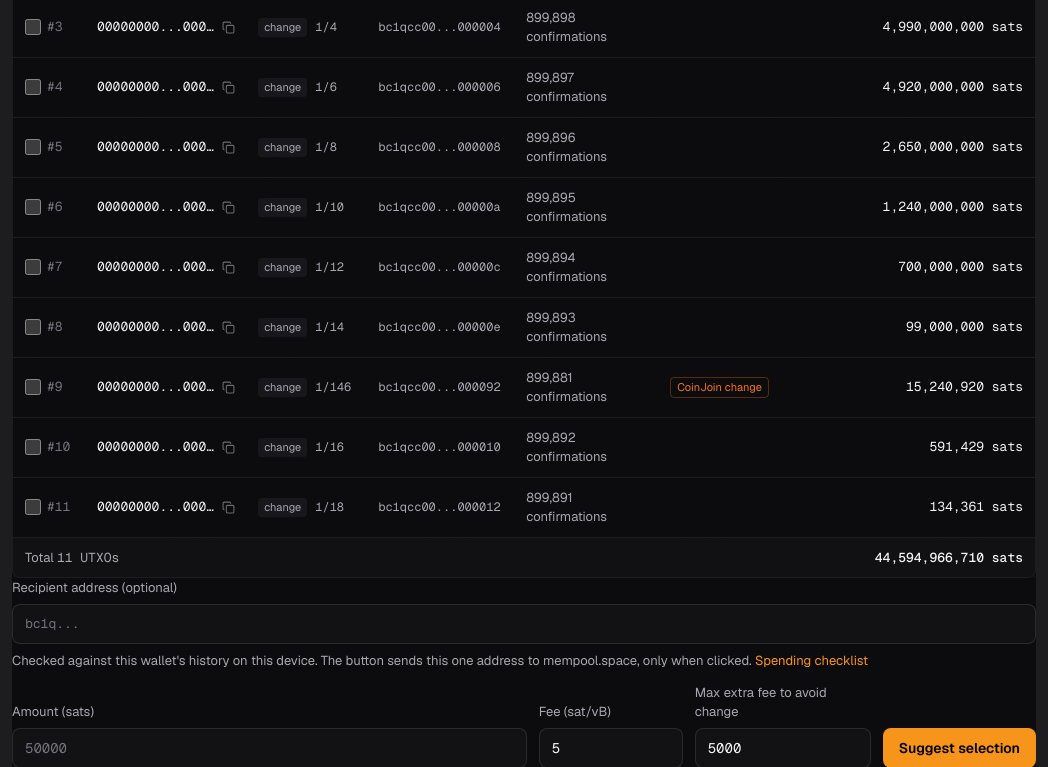
manual coin control › ticks coins and sums them; the bar shows fee, change, links and warnings from the advisor's plan
(page scrolled)
Click the checkbox labelled "#10" at (33, 447), box [25,439,41,455]
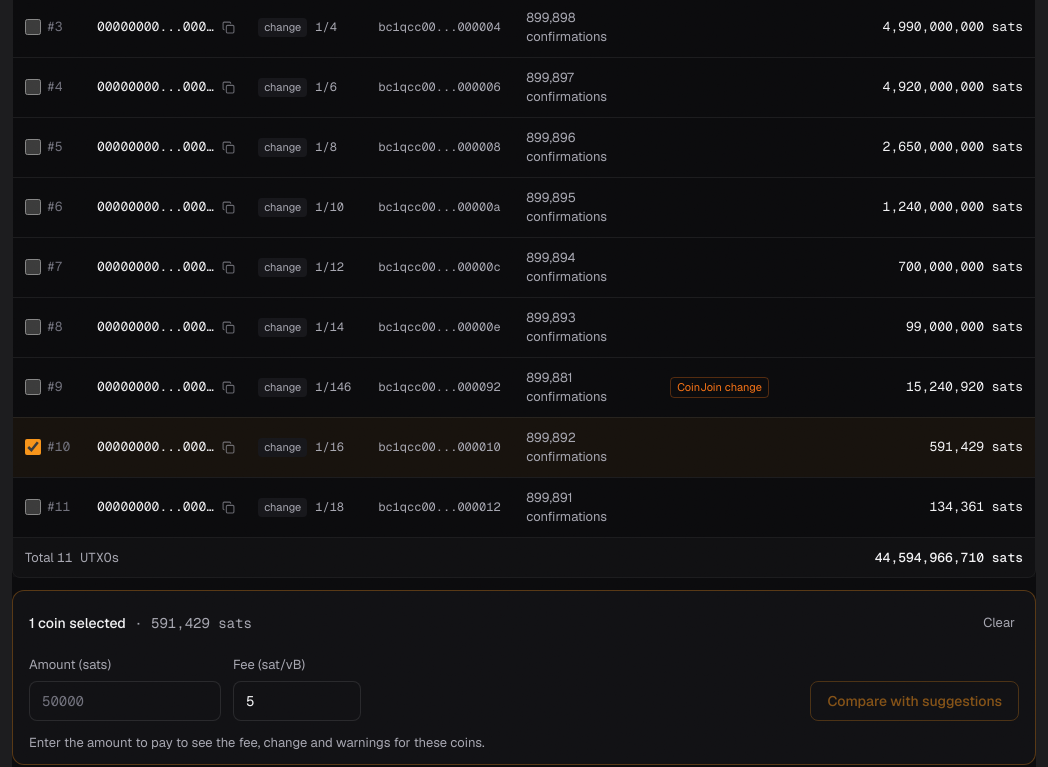
Click the checkbox labelled "#9" at (33, 387), box [25,379,41,395]
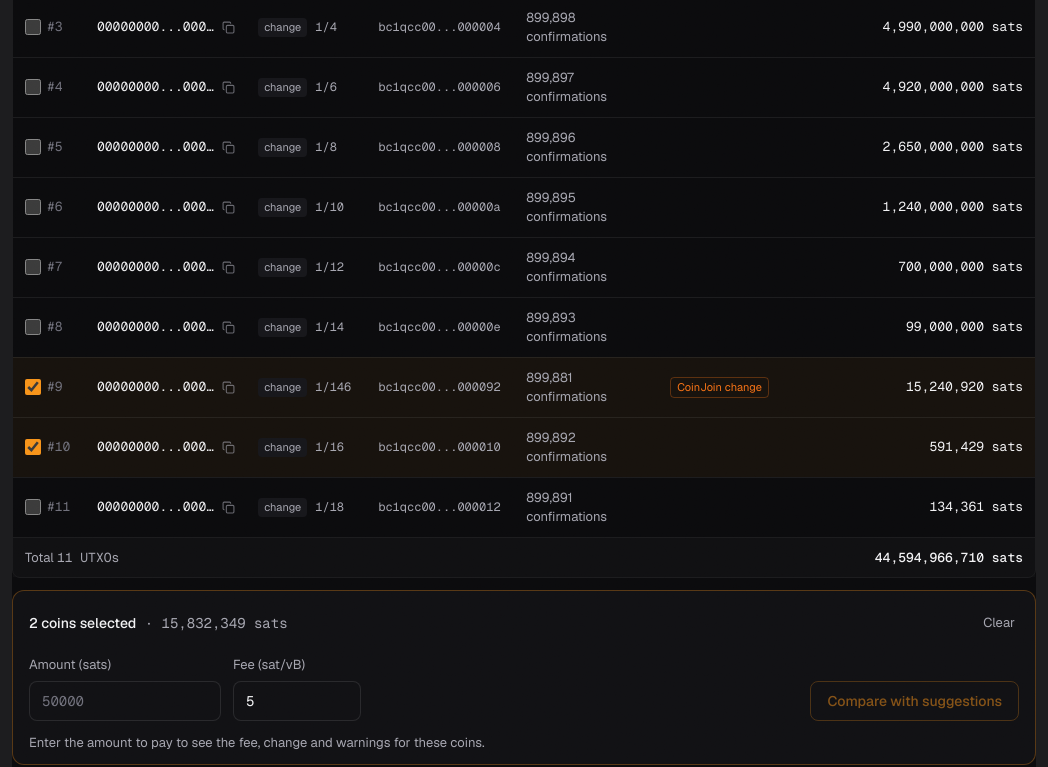
Check: the text "Enter the amount to pay" is shown, box [29,734,485,750]
Type "600000" into the number field labelled "Amount (sats)" at (125, 700), box [29,680,221,720]
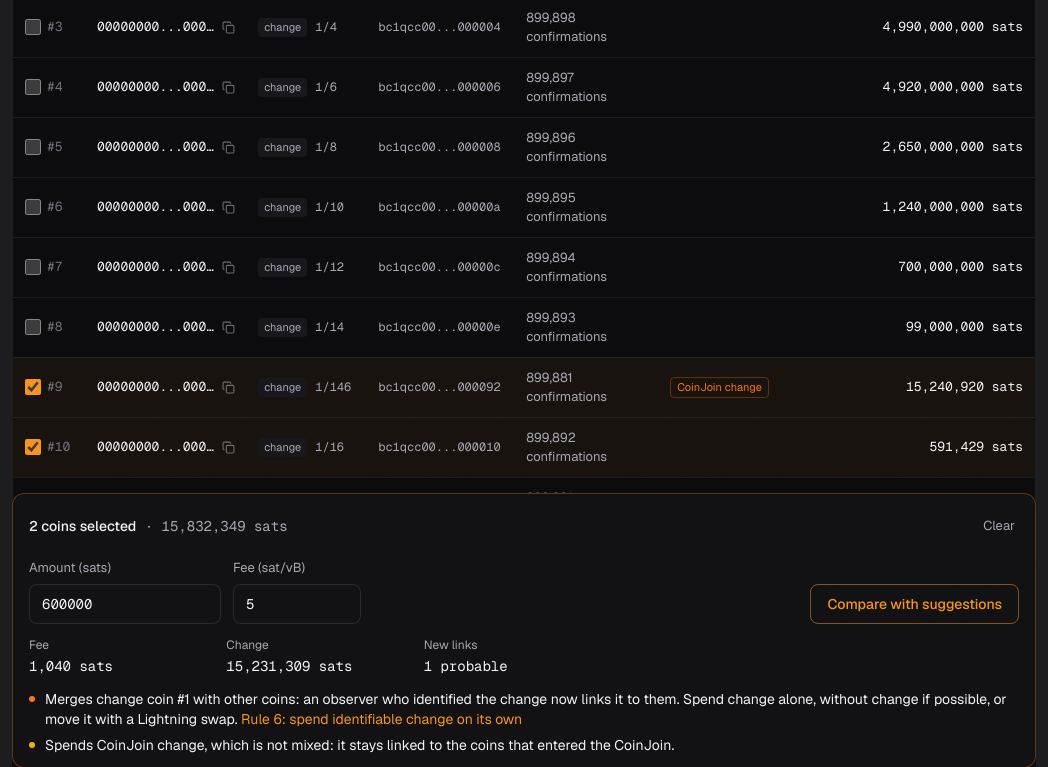
Check: the text "1 probable" is shown, box [424,657,508,675]
Check: the text "Spends CoinJoin change, which is not mixed" is shown, box [45,736,674,754]
# Not enough
Click the checkbox labelled "#9" at (33, 387), box [25,379,41,395]
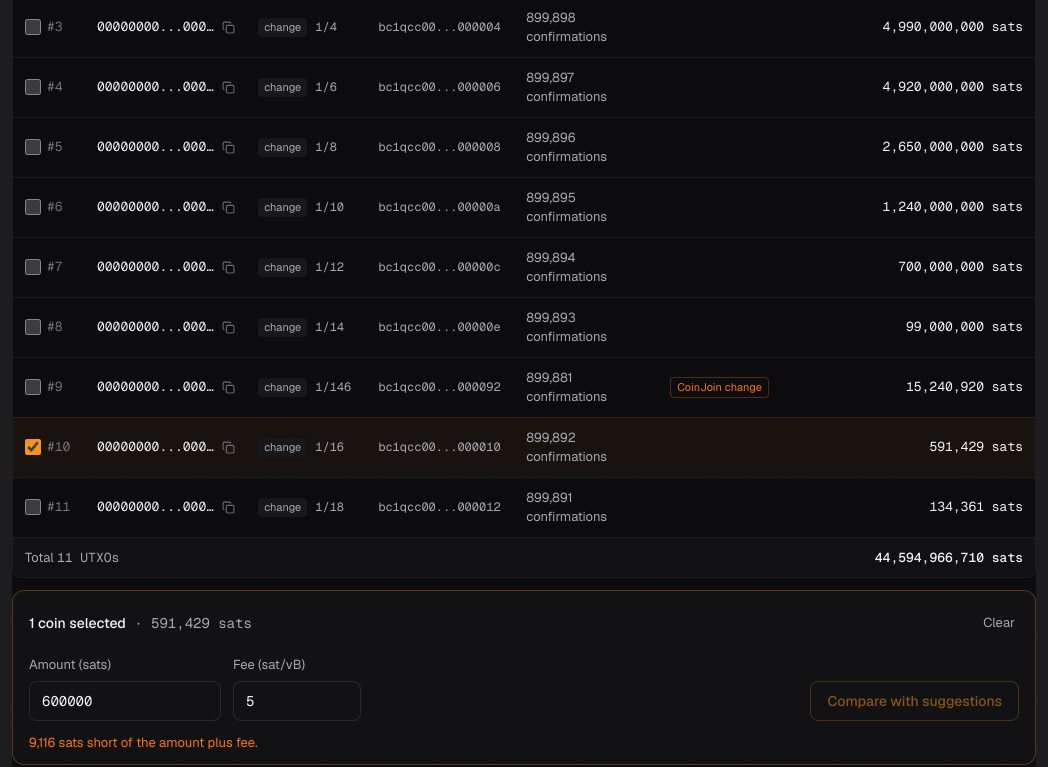
Check: the text "9,116 sats short of the amount plus fee." is shown, box [29,734,258,750]
Click the button "Clear" at (999, 623), box [979,603,1019,643]
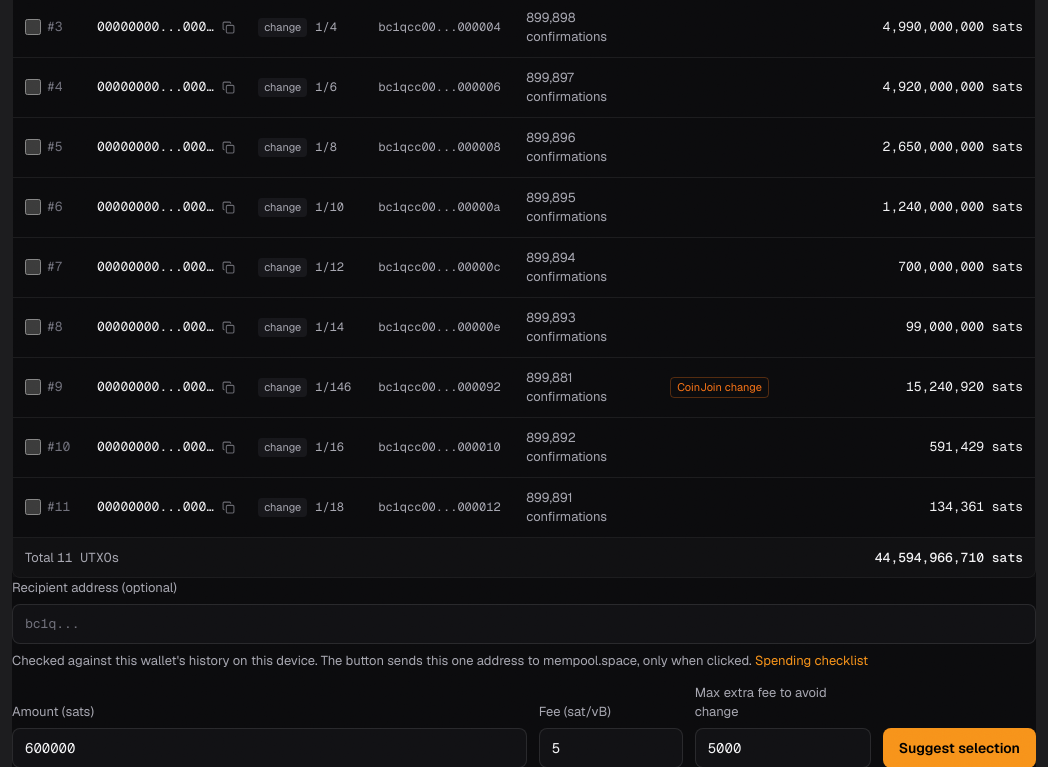
Check: the element with test id "coin-control-bar" is gone
